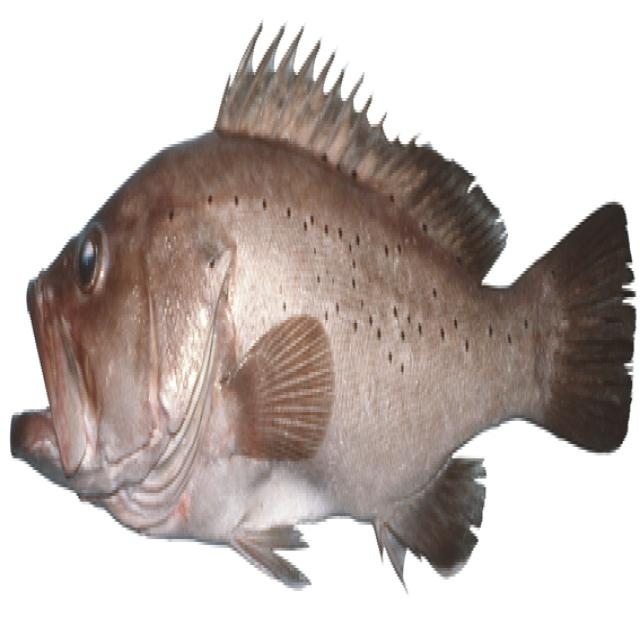ikan: (9, 17, 636, 594)
